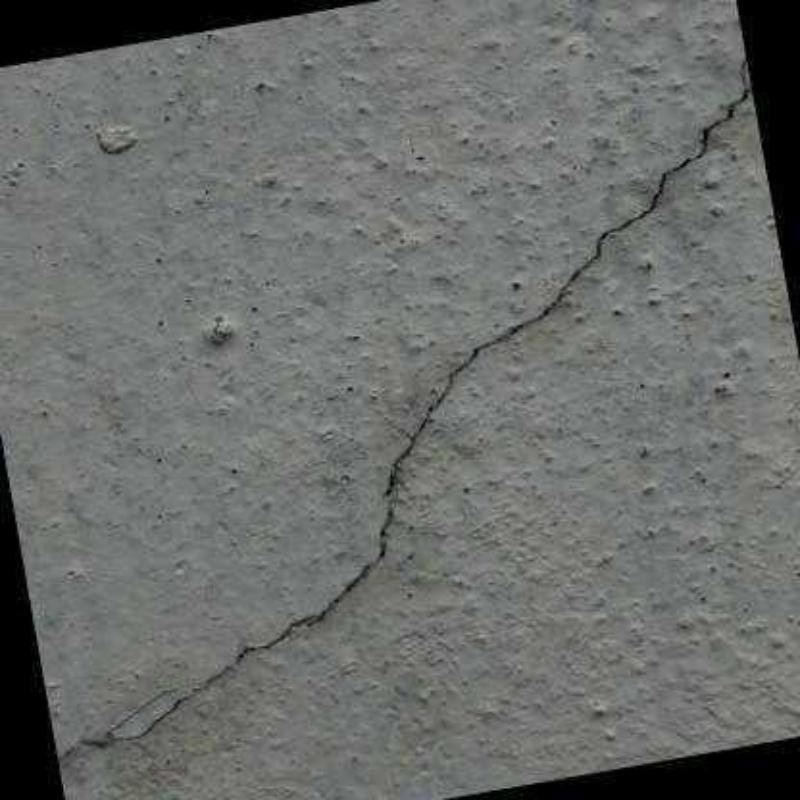pothole: (56, 50, 751, 764)
